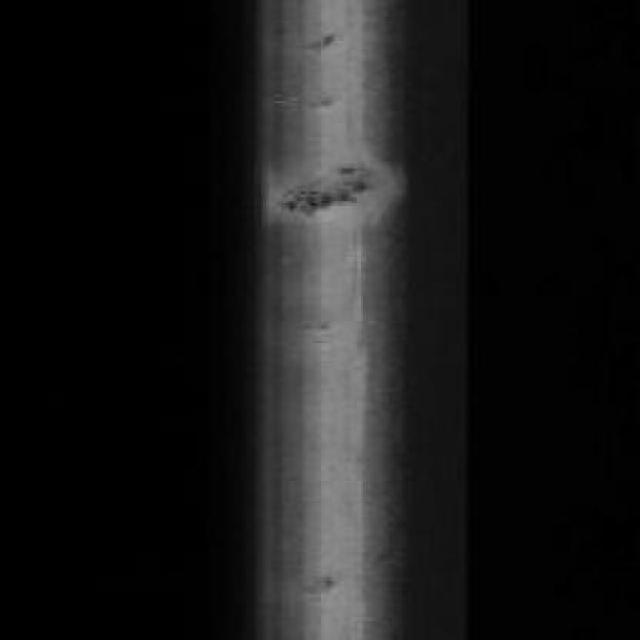defective: (241, 0, 464, 640)
